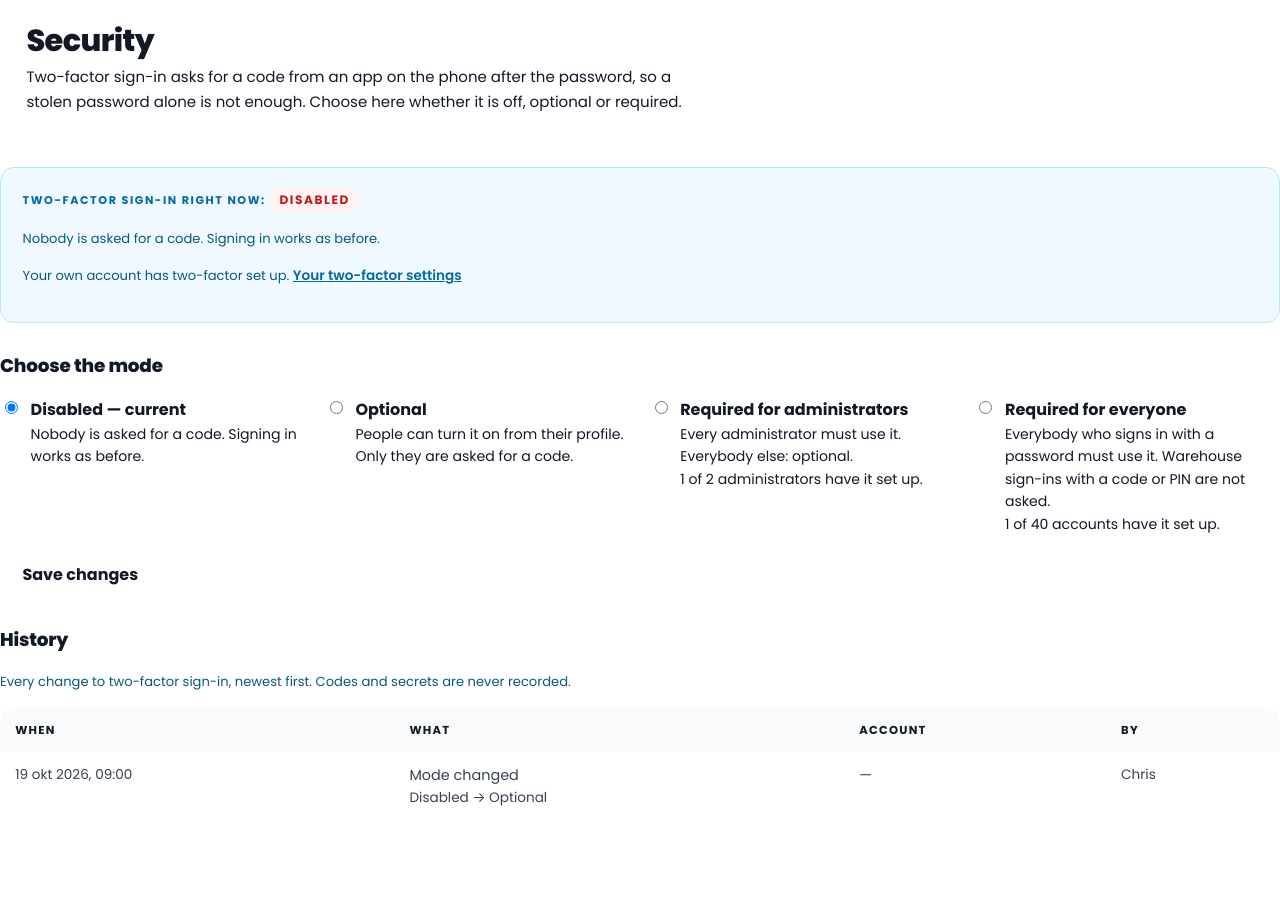
Security › asks for confirmation and the password, then saves
Click the radio button labelled "Required for administrators" at (661, 407), box 655,401 -> 668,414
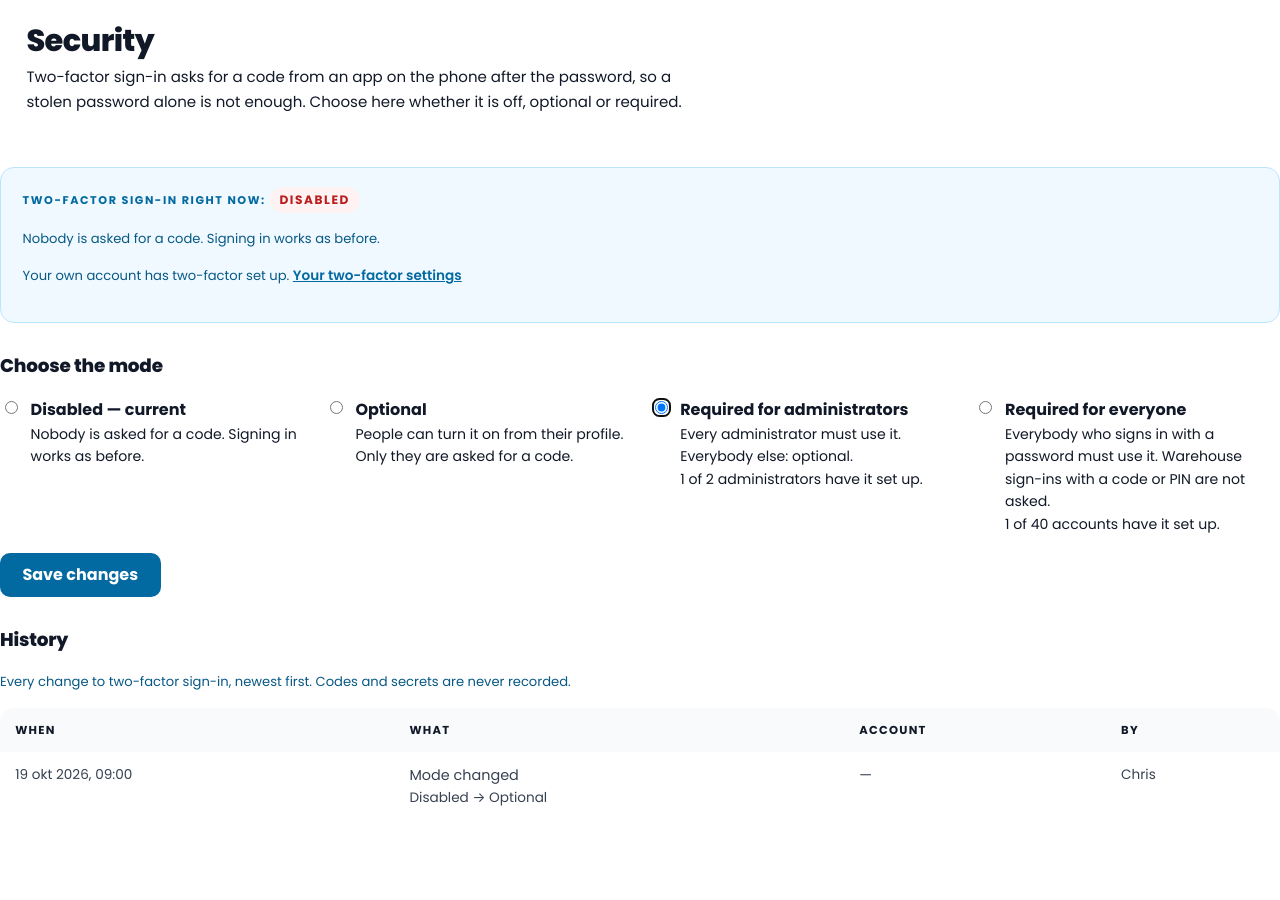
Click the button "Save changes" at (80, 575), box 0,553 -> 160,598
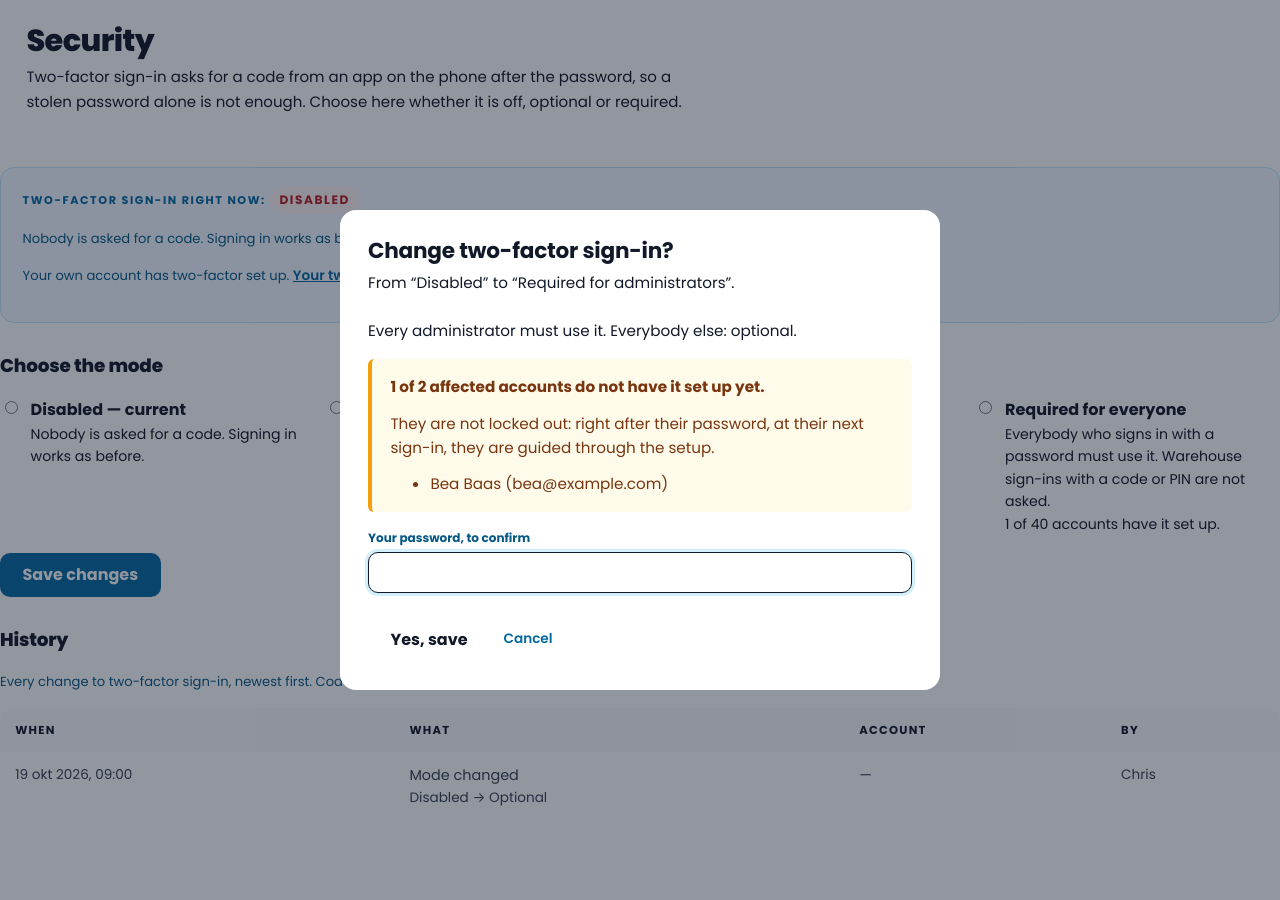
Expected: the text "1 of 2 affected accounts do not have it set up yet." is shown, 390,376 -> 764,397
Expected: the list item "Bea Baas (bea@example.com)" is shown, 430,473 -> 668,494
Type "secret-password" into the password field labelled "Your password, to confirm" at (640, 573), box 368,552 -> 912,593
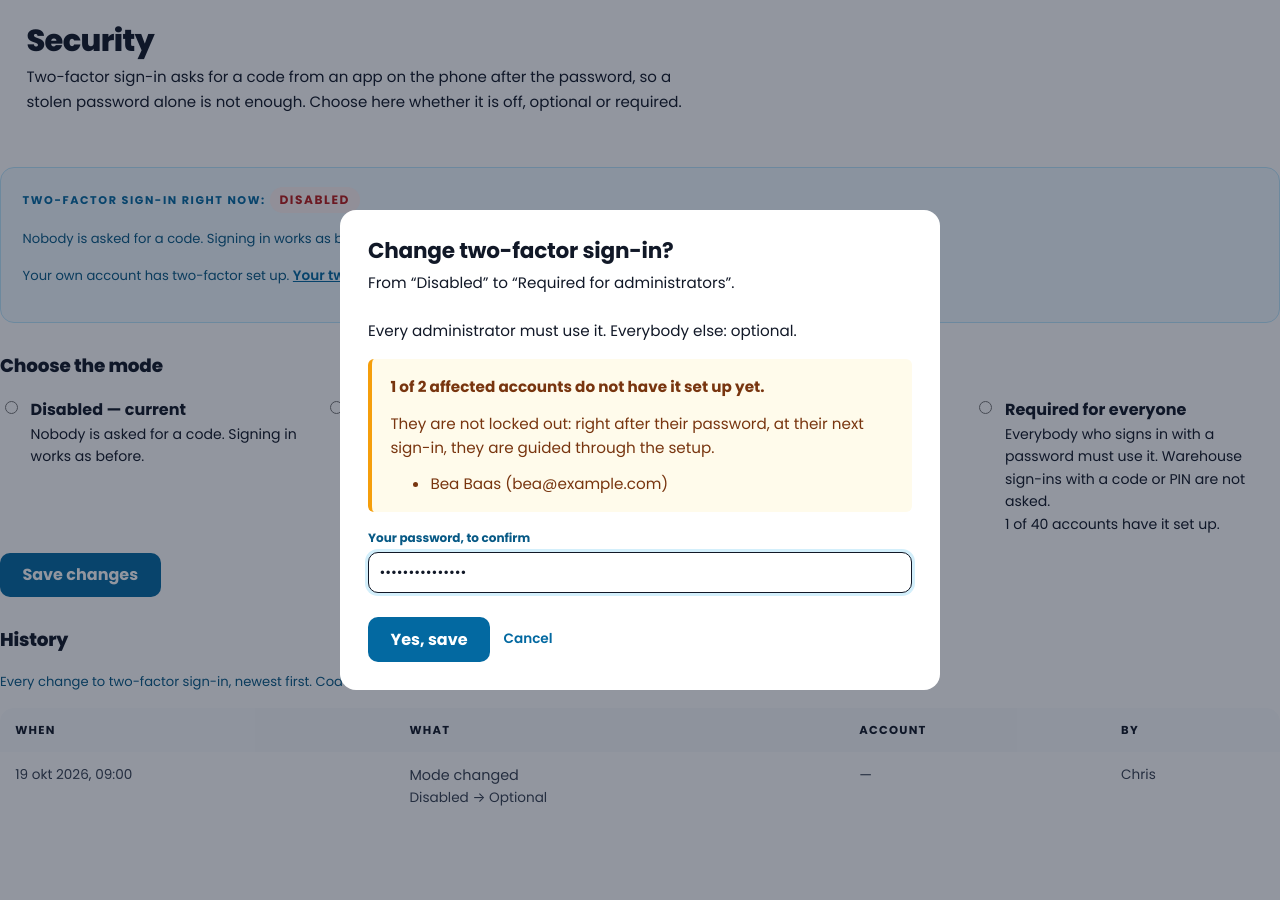
Click the button "Yes, save" at (429, 639), box 368,617 -> 490,662
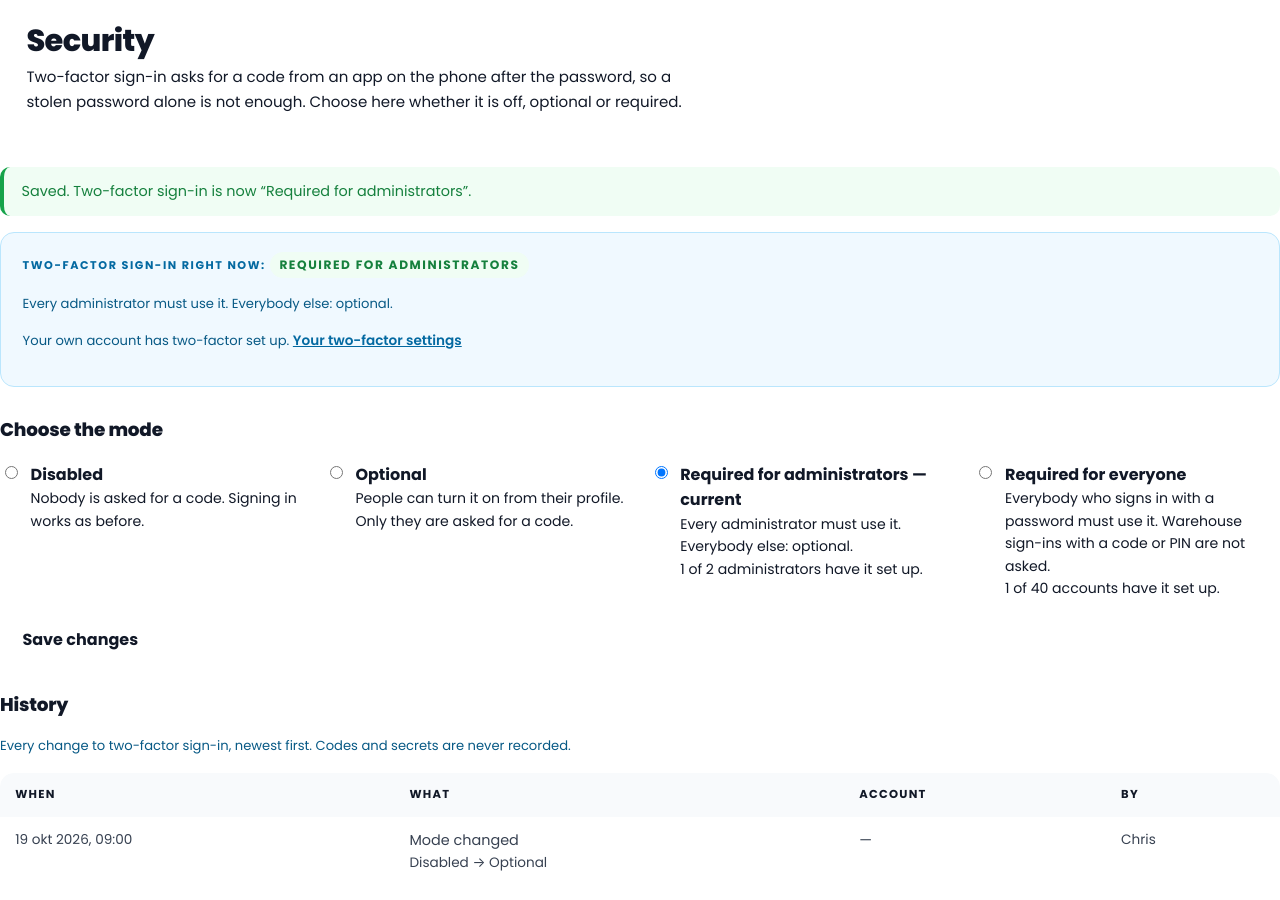
Expected: the text "Saved. Two-factor sign-in is now “Required for administrators”." is shown, 0,167 -> 1279,216
